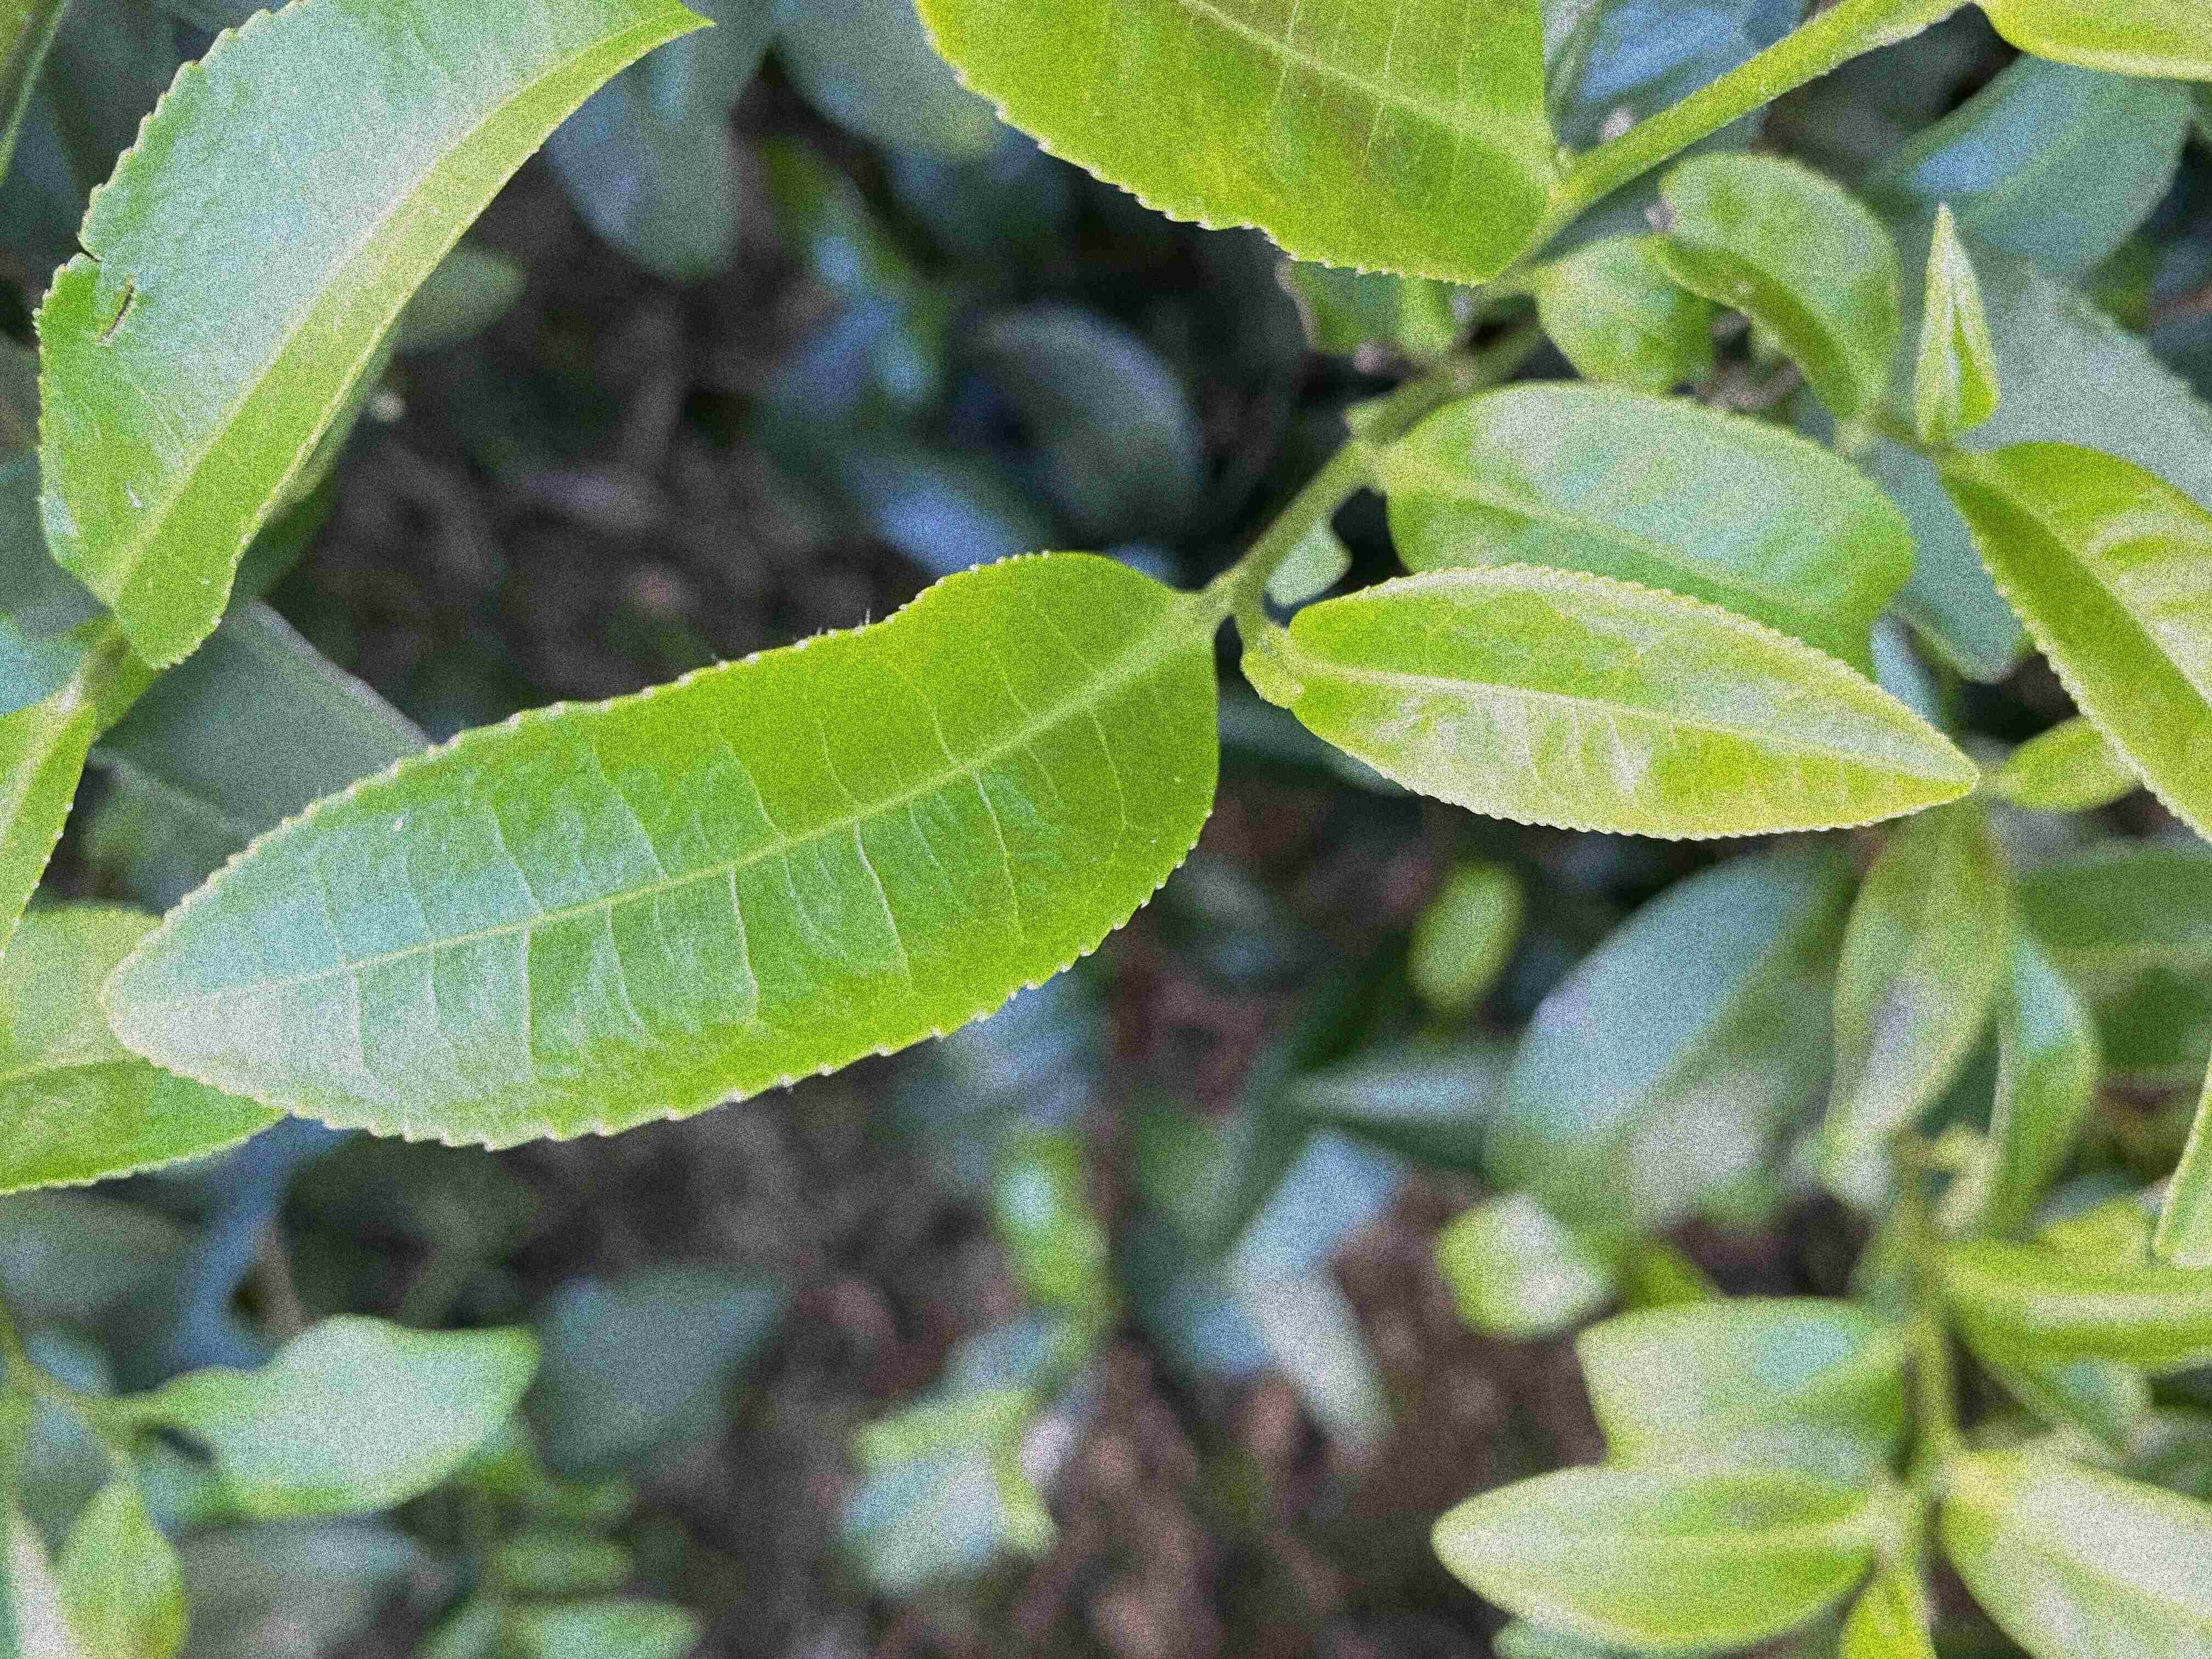chihuo_low: (23, 2, 716, 671)
healthy: (92, 549, 1223, 1152), (1277, 565, 1986, 843), (911, 2, 1564, 288), (1946, 441, 2209, 854)
